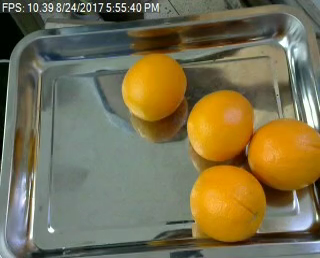Orange: (189, 164, 267, 242), (248, 116, 320, 191), (186, 88, 256, 162), (120, 53, 187, 120)
